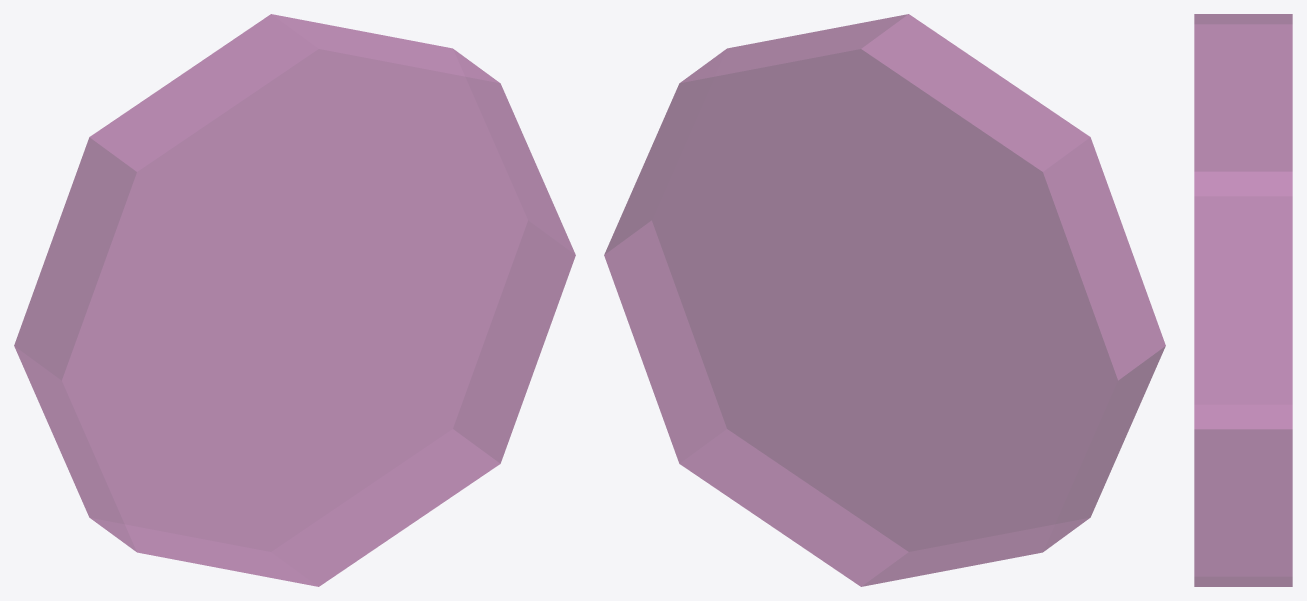
The model's file is SM_Bld_Pipe_End_Valve_Collision.fbx.
The picture shows the model from 3 angles, left to right: view 1: azimuth 30°, elevation 25°; view 2: azimuth 150°, elevation 25°; view 3: azimuth 270°, elevation 25°; orthographic projection. The views are drawn at different scales.
Visible parts, largest first — view 1: SM_Bld_Pipe_End_Valve_Collision; view 2: SM_Bld_Pipe_End_Valve_Collision; view 3: SM_Bld_Pipe_End_Valve_Collision.
Boxes of the visible parts, <box> form: SM_Bld_Pipe_End_Valve_Collision: <box>14,14,575,586</box>; SM_Bld_Pipe_End_Valve_Collision: <box>604,14,1165,586</box>; SM_Bld_Pipe_End_Valve_Collision: <box>1194,14,1292,586</box>.
Size of the model in its own units: 72.45 by 72.45 by 11.65.
